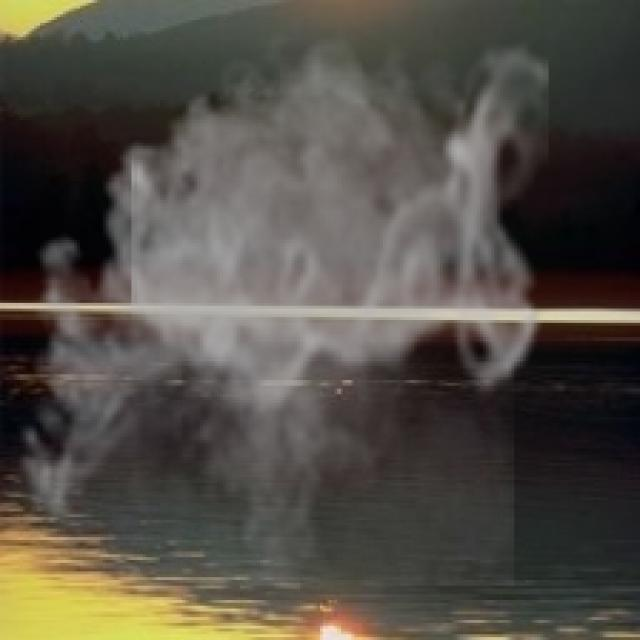smoke: (3, 17, 548, 586)
